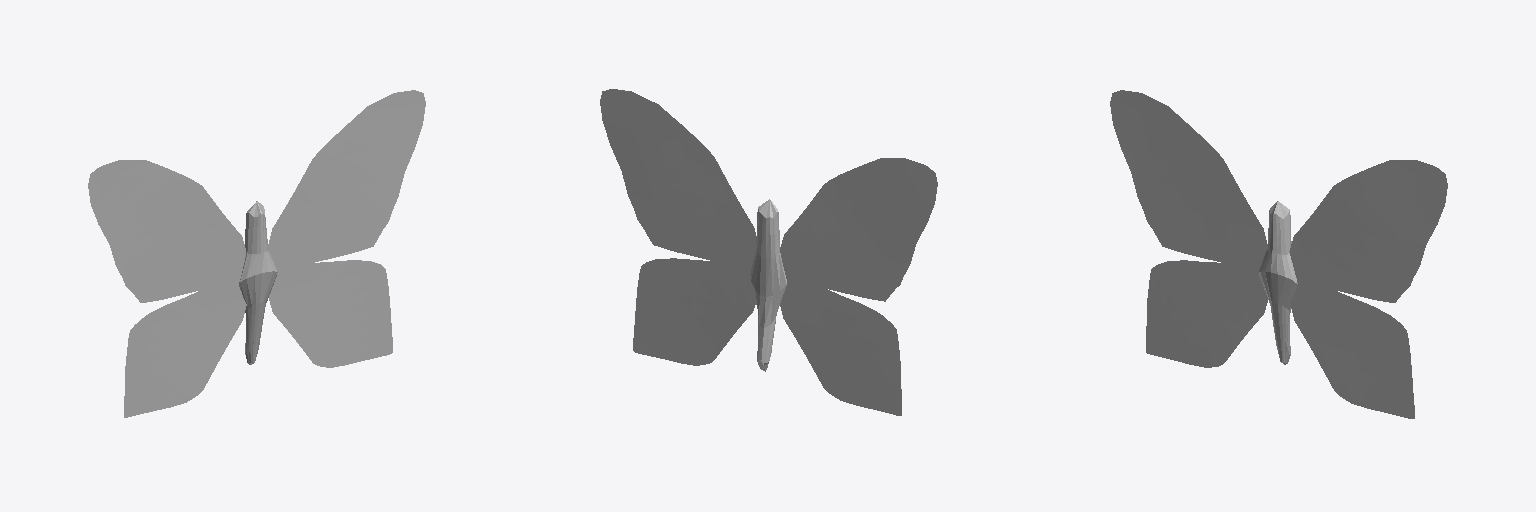
File: Butterfly OBJ.obj
3 views of the same model, side by side, from view 1: azimuth 30°, elevation 25°; view 2: azimuth 150°, elevation 25°; view 3: azimuth 330°, elevation 25° (orthographic).
Visible parts, largest first — view 1: Butterfly Geometry Butterfly; view 2: Butterfly Geometry Butterfly; view 3: Butterfly Geometry Butterfly.
Boxes of the visible parts, box(x1,y1,x2,y2) form: Butterfly Geometry Butterfly: box(88, 90, 425, 417); Butterfly Geometry Butterfly: box(600, 89, 937, 415); Butterfly Geometry Butterfly: box(1110, 90, 1447, 418).
Bounding box in the file's own units: 1.36 × 1 × 0.1047.